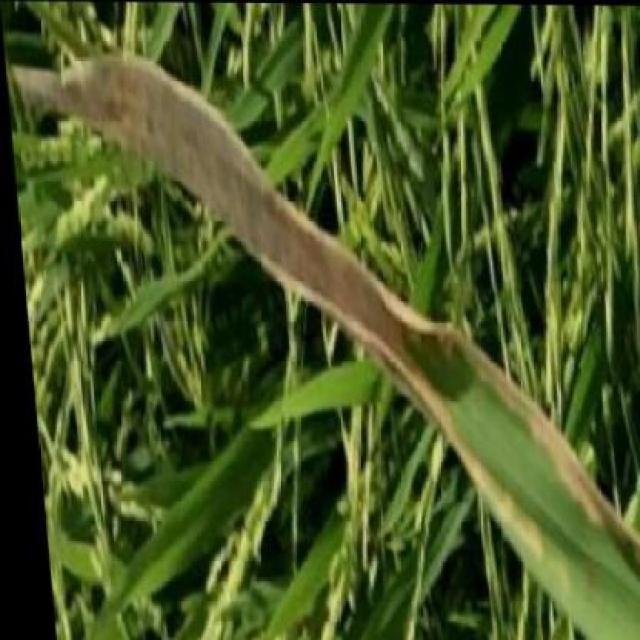Brown_Spot: (333, 318, 596, 513)
